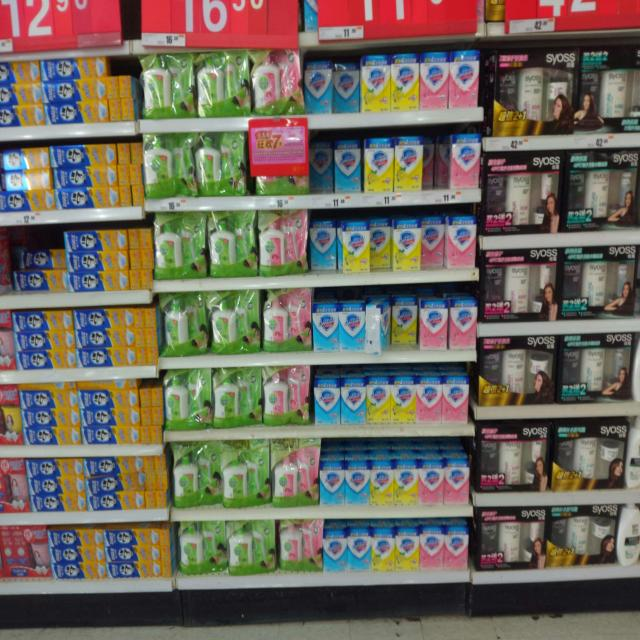unorganised: (307, 134, 364, 197), (303, 54, 362, 114), (362, 297, 391, 357), (311, 218, 339, 275), (421, 134, 447, 189), (370, 217, 392, 272), (421, 218, 445, 268), (394, 298, 417, 349), (16, 247, 66, 270)
